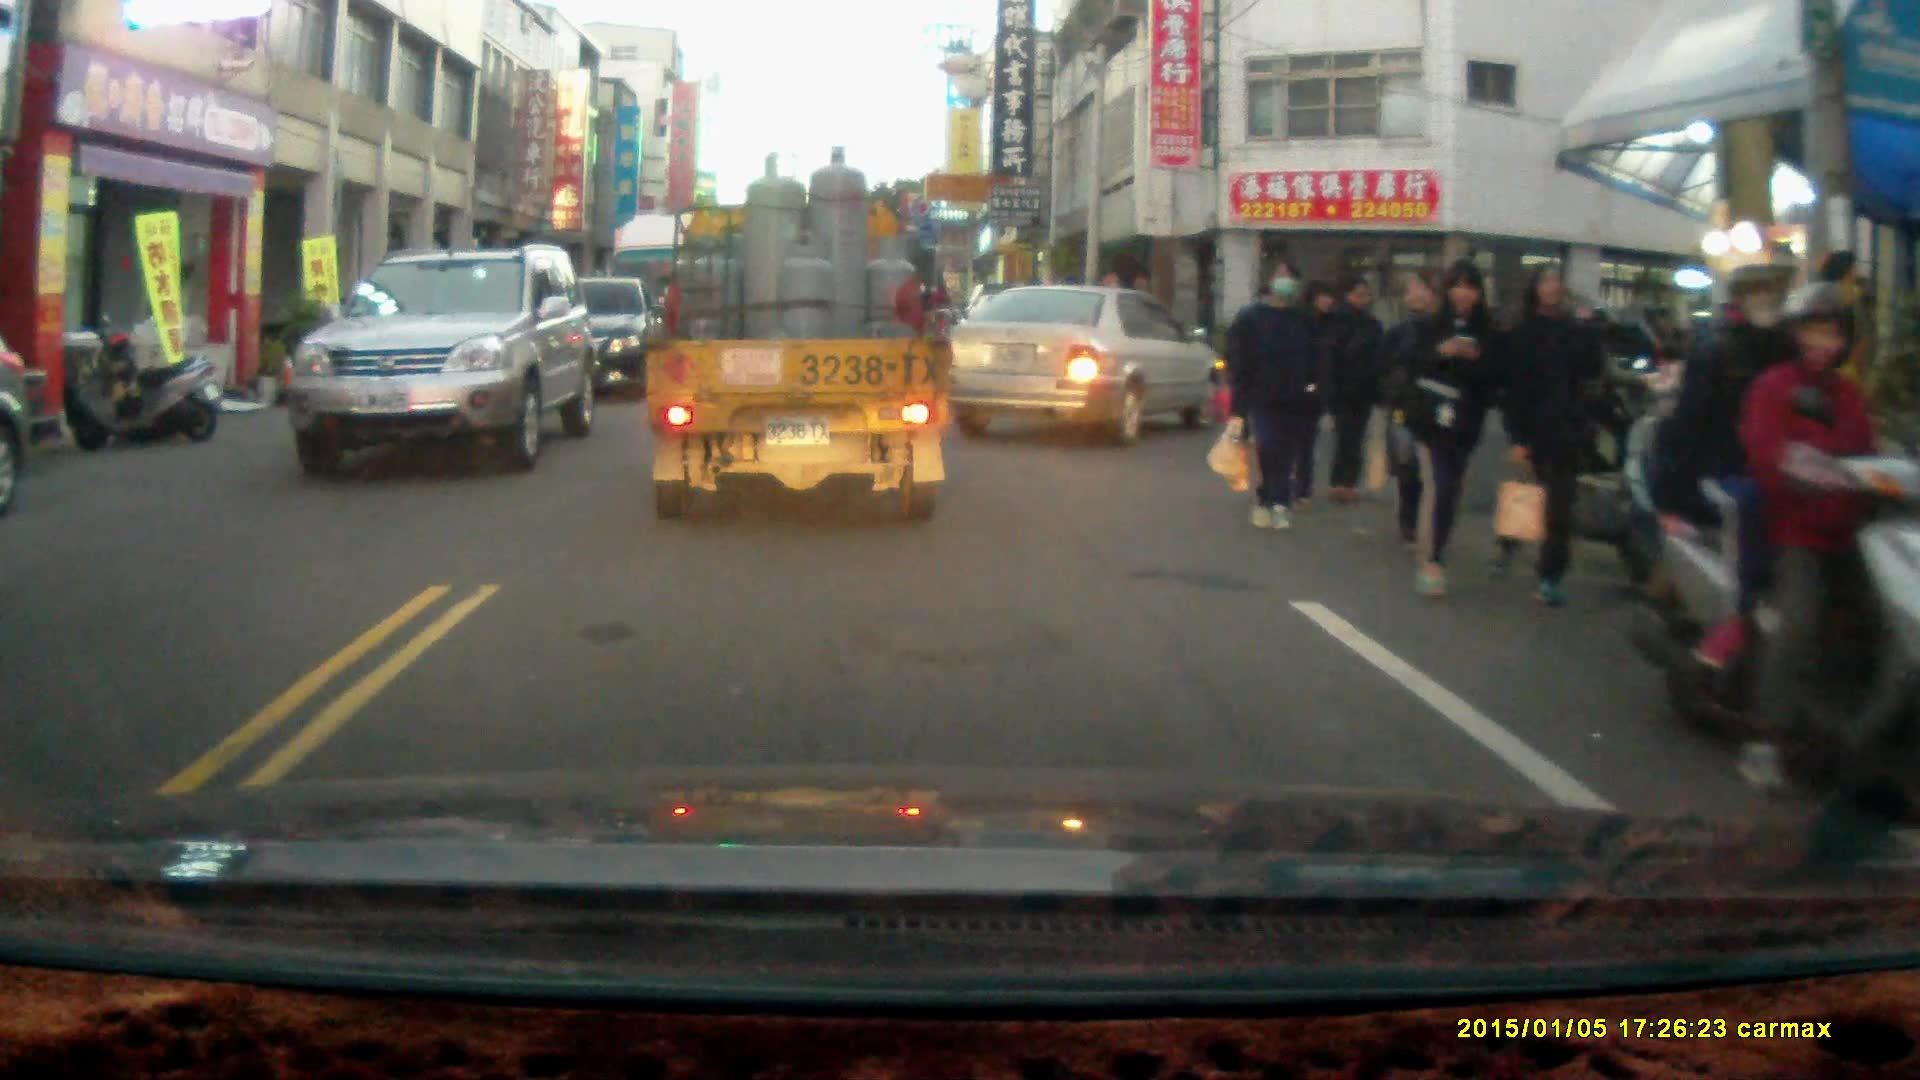pedestrian: (1499, 257, 1601, 605), (1402, 263, 1503, 608), (1229, 264, 1312, 539), (1316, 272, 1391, 505)
rider: (1628, 241, 1920, 830), (1544, 304, 1659, 497)
vehicle: (642, 144, 960, 525), (288, 245, 599, 483), (941, 285, 1234, 442), (491, 272, 668, 405)
